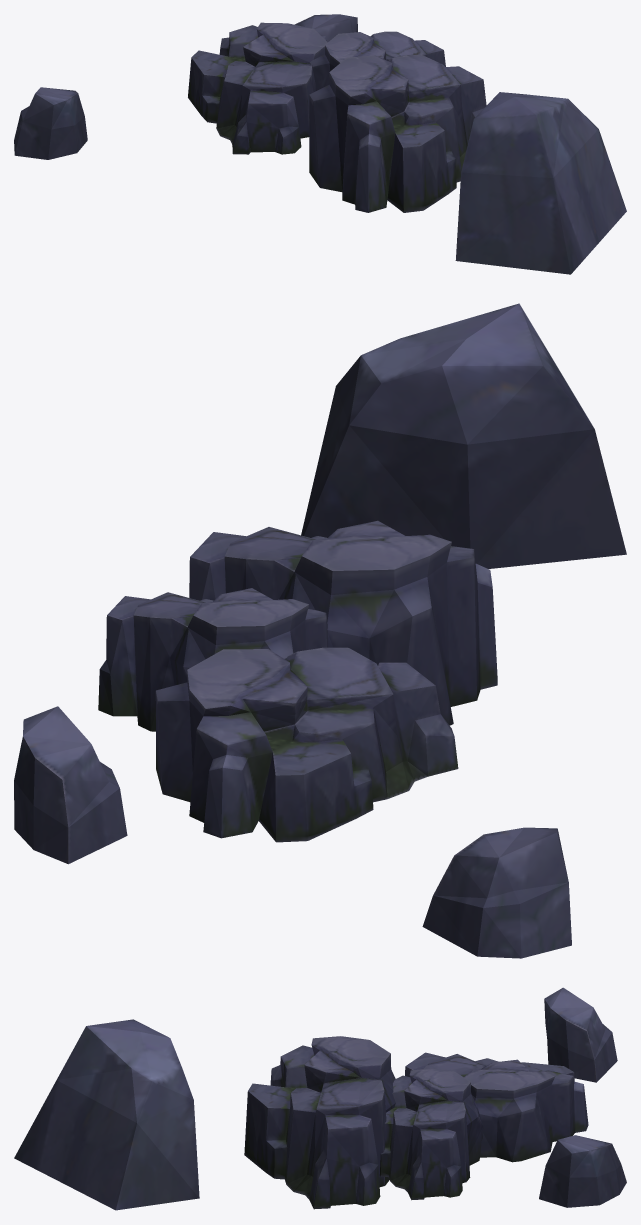
The model's file is Area10_1.fbx.
The picture shows the model from 3 angles, top to bottom: view 1: azimuth 30°, elevation 25°; view 2: azimuth 150°, elevation 25°; view 3: azimuth 270°, elevation 25°; orthographic projection. The views are drawn at different scales.
Visible parts, largest first — view 1: Area10_1; view 2: Area10_1; view 3: Area10_1.
Boxes of the visible parts, <box> form: Area10_1: <box>14,14,626,274</box>; Area10_1: <box>14,303,626,958</box>; Area10_1: <box>14,987,626,1210</box>.
Bounding box in the file's own units: 1809 × 687 × 2511.
